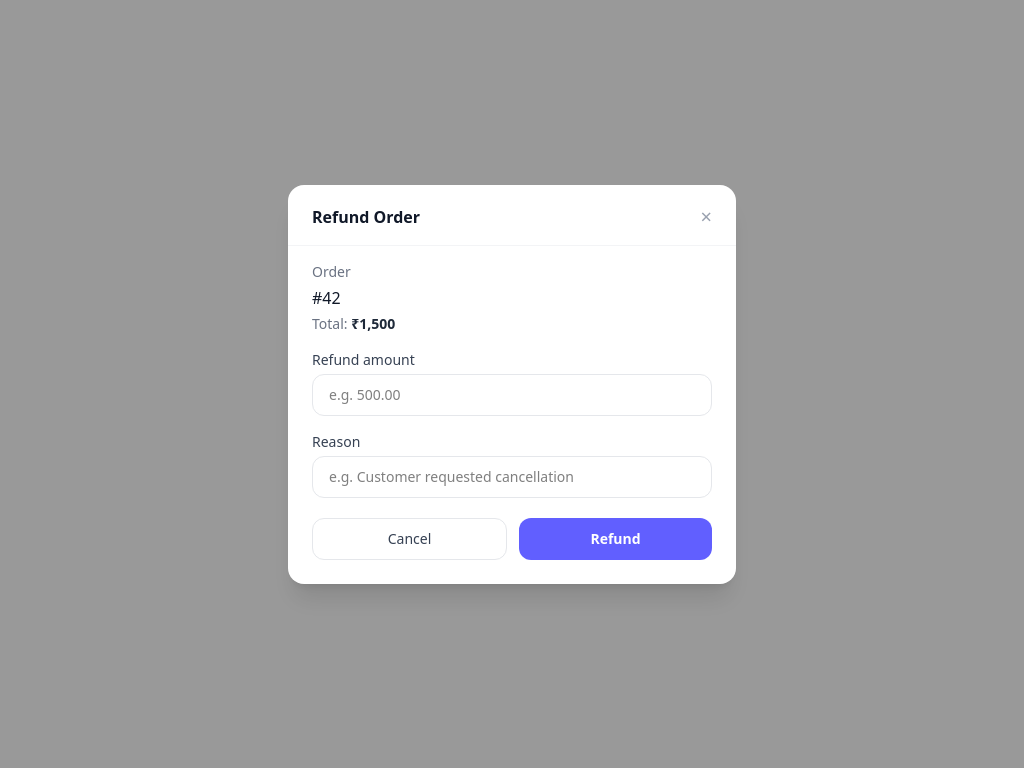
Test: RefundModal › surfaces a backend error (e.g. payment not in SUCCESS status)
The width and height of the screenshot is (1024, 768).
Type "500" into the number field with placeholder "e.g. 500.00" at (512, 394), box [312,374,712,416]
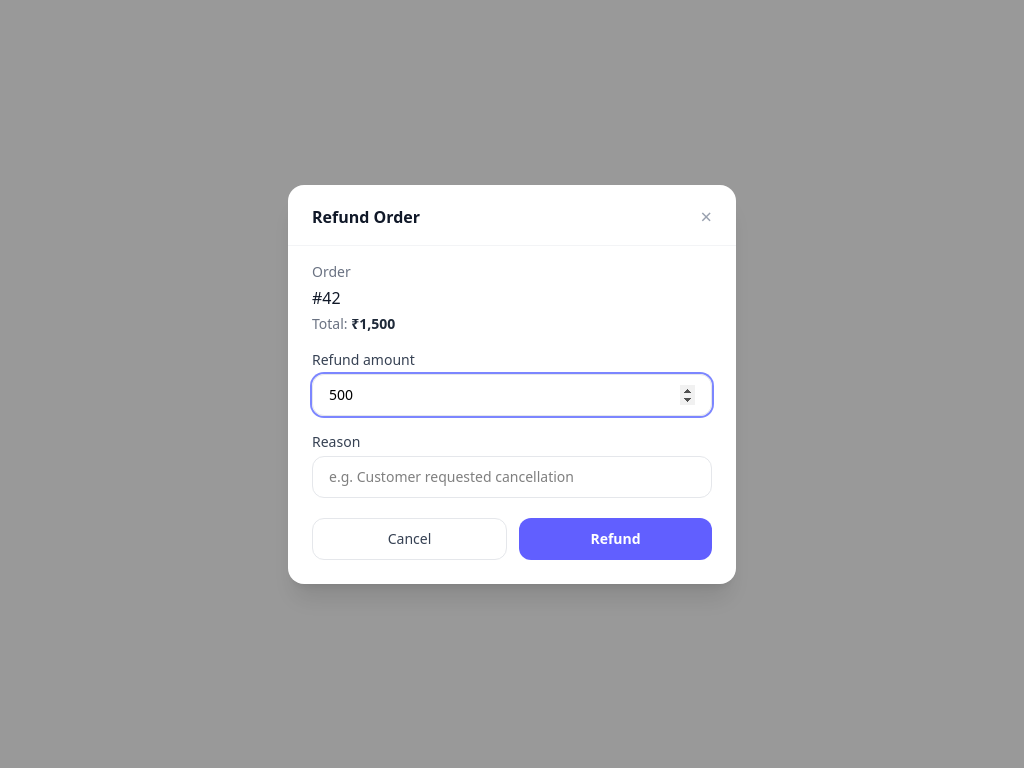
Type "Reason" into the field with placeholder "e.g. Customer requested cancellation" at (512, 476), box [312,456,712,498]
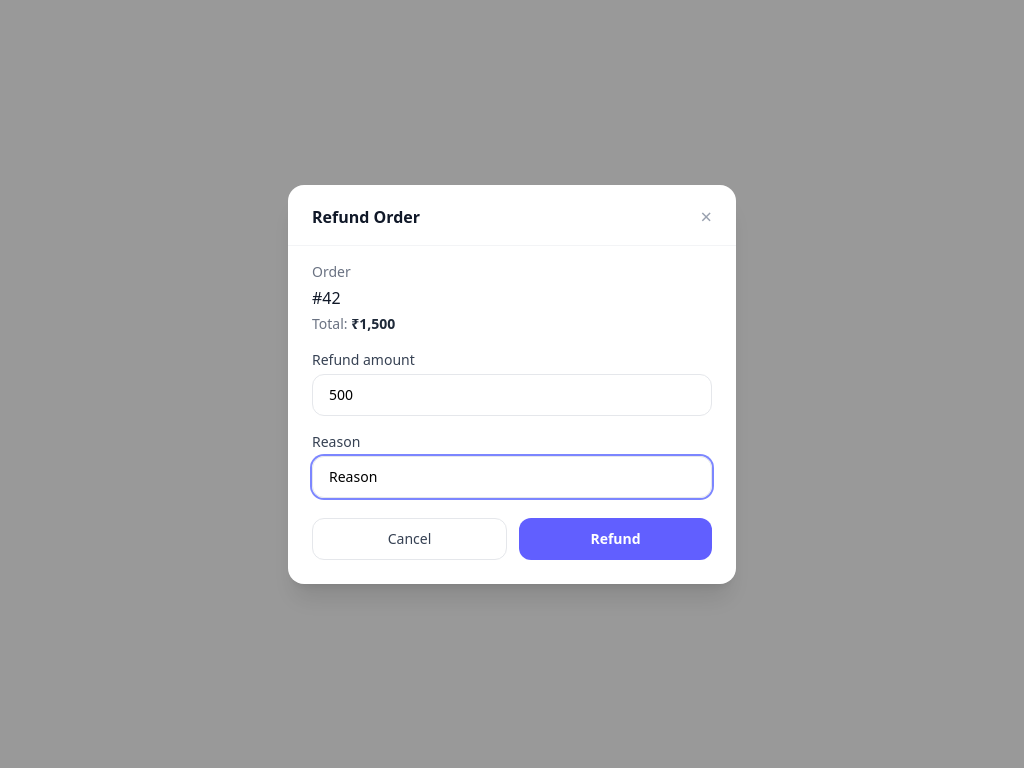
Click the button "Refund" at (616, 538), box [519,518,712,560]
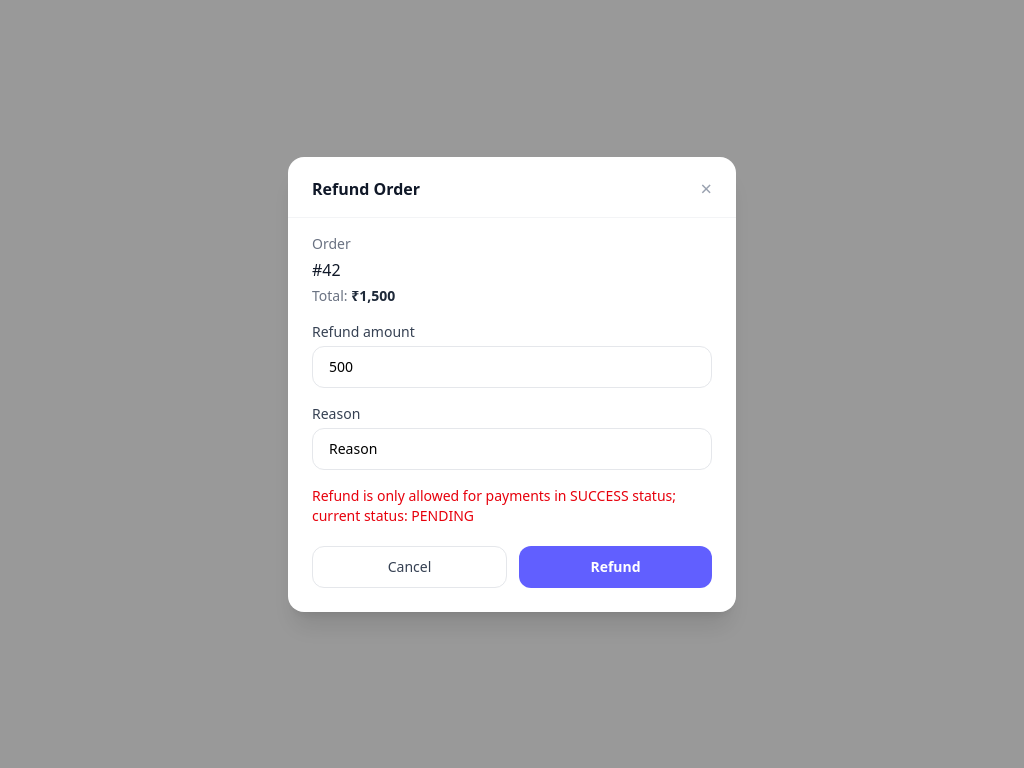
expect the text "only allowed for payments in SUCCESS status" is shown: met, box [312,486,676,524]
